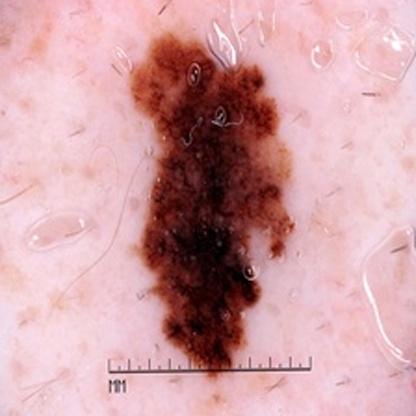malignant: (123, 40, 295, 365)
